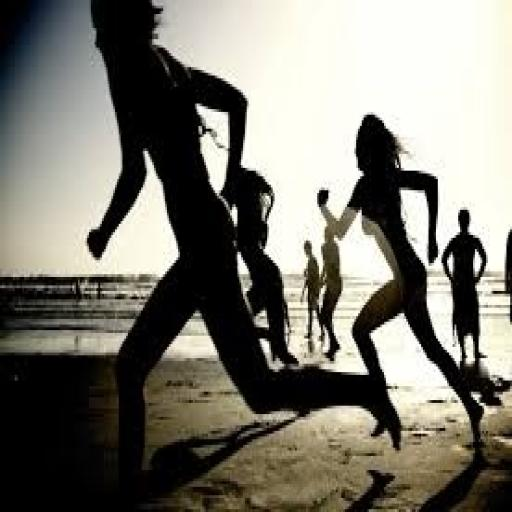running: (84, 0, 404, 481), (315, 109, 488, 453)
